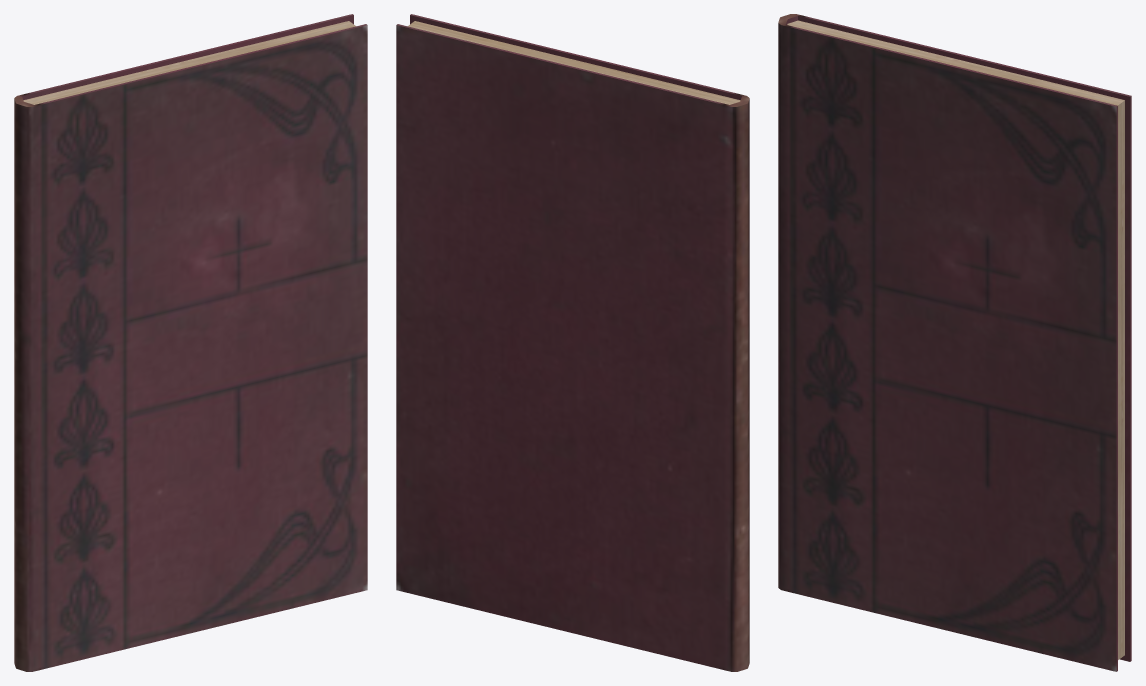
File: SM_Book_Old.028.fbx
The picture shows the model from 3 angles, left to right: view 1: azimuth 30°, elevation 25°; view 2: azimuth 150°, elevation 25°; view 3: azimuth 330°, elevation 25°; orthographic projection.
Parts seen in each view (by area): view 1: SM_Book_Old.028; view 2: SM_Book_Old.028; view 3: SM_Book_Old.028.
Part boxes in pixels (x1,y1,x2,y2): SM_Book_Old.028: [14, 14, 367, 671]; SM_Book_Old.028: [396, 14, 749, 671]; SM_Book_Old.028: [778, 14, 1131, 671].
Size of the model in its own units: 0.2399 by 0.3764 by 0.0183.
